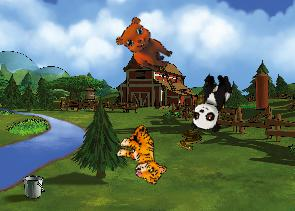bear: (111, 13, 181, 76)
panda: (188, 69, 235, 135)
tiger: (109, 120, 179, 188)
